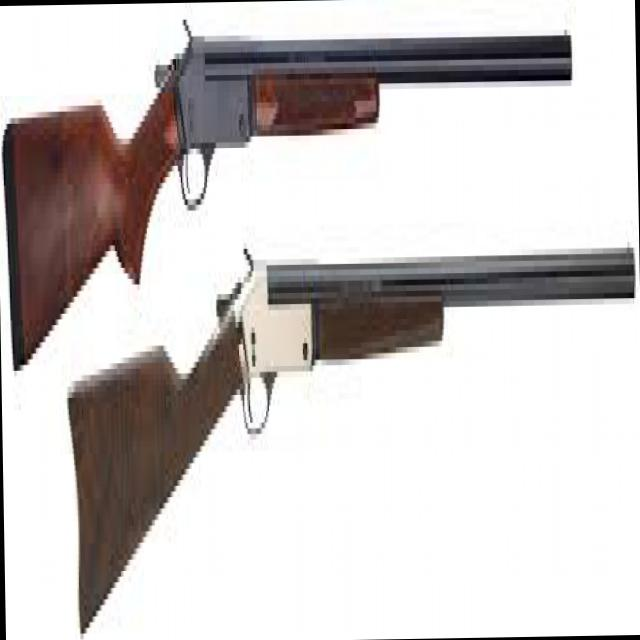long weapon: (3, 0, 587, 372), (67, 209, 639, 510)
